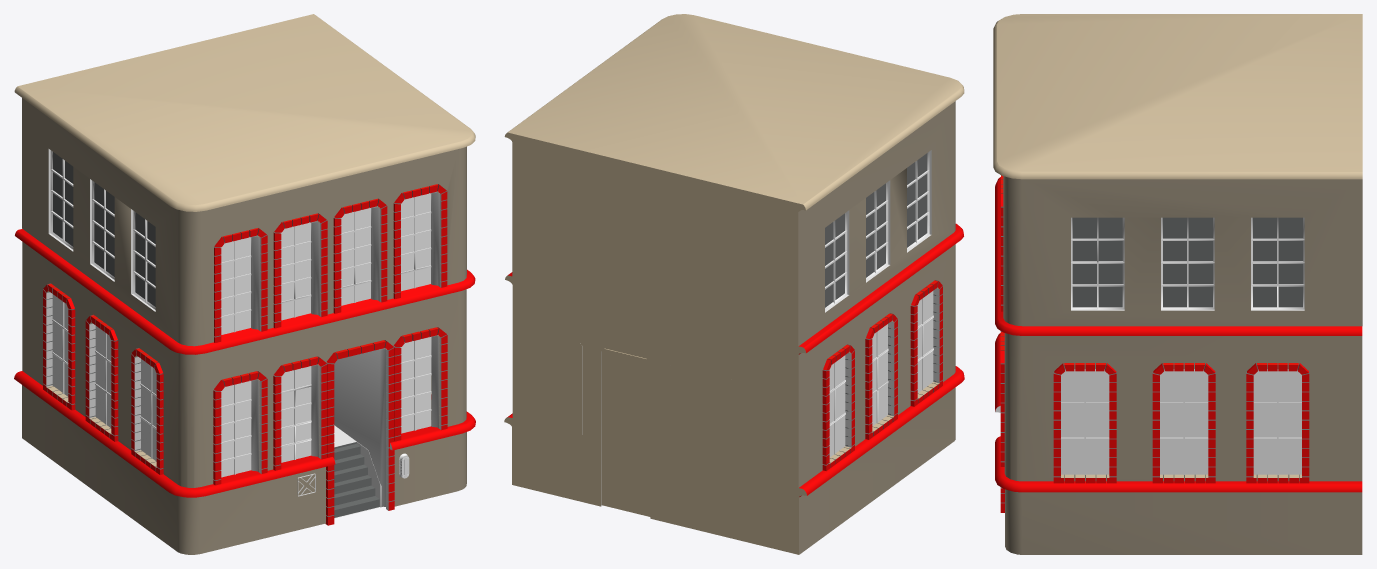
The model's file is dom2_1.fbx.
The picture shows the model from 3 angles, left to right: view 1: azimuth 30°, elevation 25°; view 2: azimuth 150°, elevation 25°; view 3: azimuth 270°, elevation 25°; orthographic projection. The views are drawn at different scales.
Parts seen in each view (by area): view 1: Cube_5901, Cube_5879, Cube_5898, Cube_59011, Cube_59017, Cube_59015, Cube_59016, Cube_5896, Cube_58861, Cube_5886, Cube_58813, Cube_58815 (+1 smaller); view 2: Cube_5901, Cube_5879, Cube, Cube_59017, Cube_59016, Cube_59015, Cube_58814, Cube_58813, Cube_58815; view 3: Cube_5901, Cube_5879, Cube_5881, Cube_58811, Cube_58812, Cube_59012, Cube_59014, Cube_59013, Cube_5886.
Boxes of the visible parts, x1,y1,x2,y2 form: Cube_5901: [14, 14, 475, 346]; Cube_5879: [14, 229, 475, 554]; Cube_5898: [325, 340, 394, 525]; Cube_59011: [333, 425, 382, 518]; Cube_59017: [85, 314, 118, 441]; Cube_59015: [43, 283, 75, 410]; Cube_59016: [131, 348, 163, 474]; Cube_5896: [213, 371, 267, 485]; Cube_58861: [273, 356, 327, 470]; Cube_5886: [394, 327, 447, 441]; Cube_58813: [52, 294, 69, 396]; Cube_58815: [95, 326, 112, 427]; Cube_5901: [504, 14, 964, 346]; Cube_5879: [504, 223, 964, 554]; Cube: [601, 348, 650, 516]; Cube_59017: [865, 313, 897, 439]; Cube_59016: [910, 280, 942, 406]; Cube_59015: [822, 344, 854, 470]; Cube_58814: [917, 291, 933, 392]; Cube_58813: [829, 355, 845, 457]; Cube_58815: [871, 324, 888, 426]; Cube_5901: [993, 14, 1362, 326]; Cube_5879: [995, 177, 1362, 554]; Cube_5881: [1253, 369, 1301, 474]; Cube_58811: [1061, 369, 1109, 474]; Cube_58812: [1160, 369, 1208, 474]; Cube_59012: [1246, 363, 1309, 483]; Cube_59014: [1152, 363, 1215, 483]; Cube_59013: [1053, 363, 1116, 483]; Cube_5886: [1000, 331, 1004, 466].
Size of the model in its own units: 3.24 by 3.6 by 3.13.
